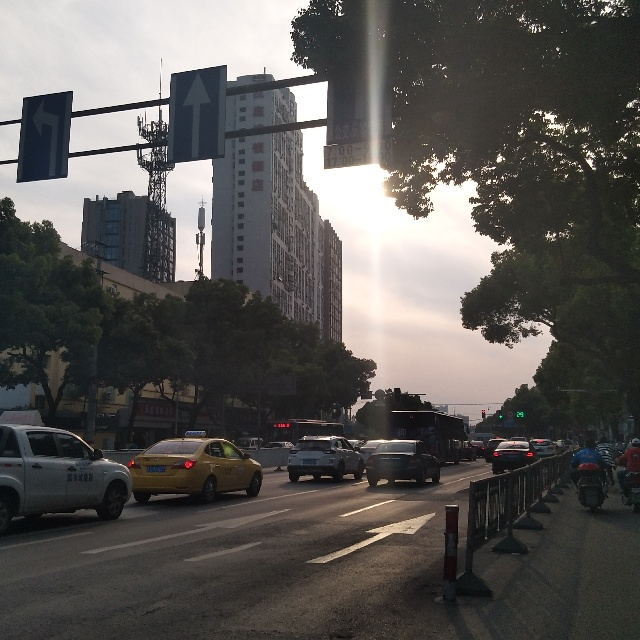left: (15, 92, 73, 185)
straight: (169, 65, 226, 162)
